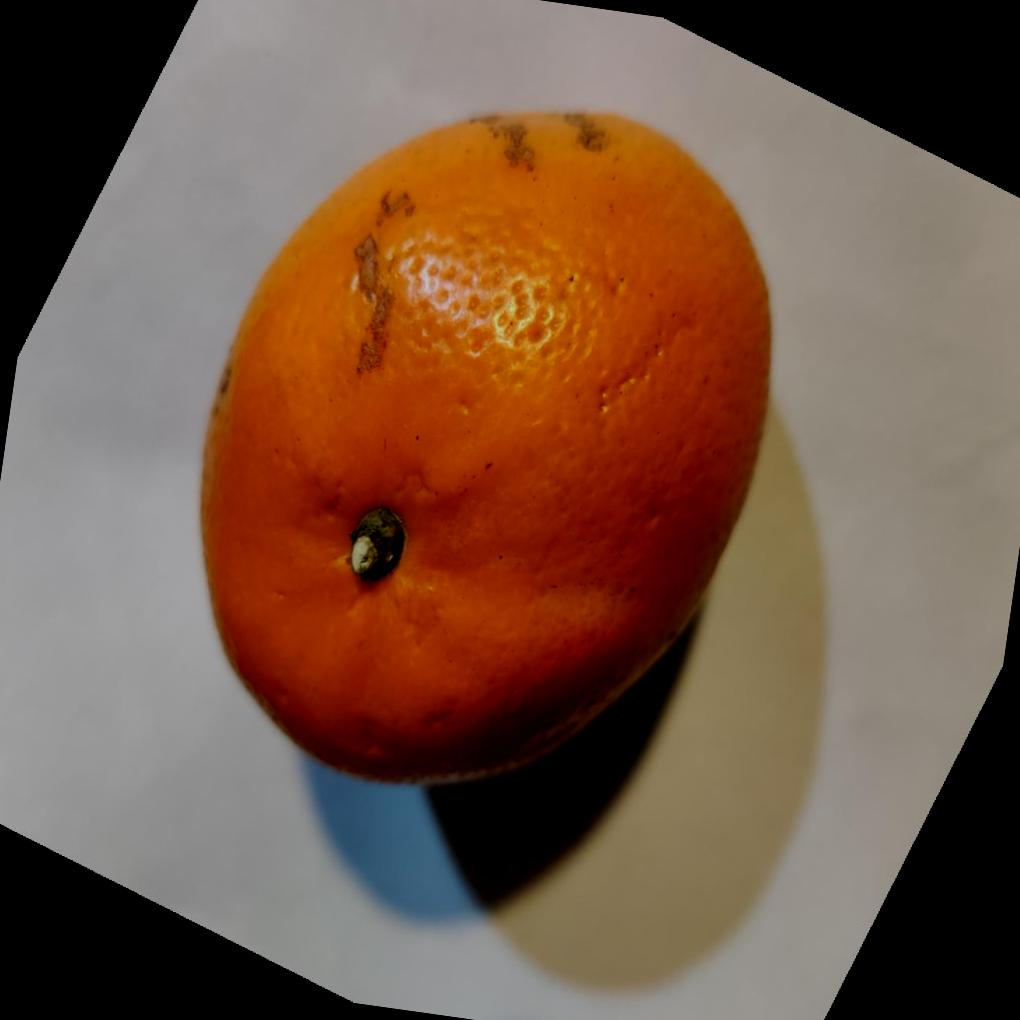FreshGuava: (197, 104, 776, 785)
